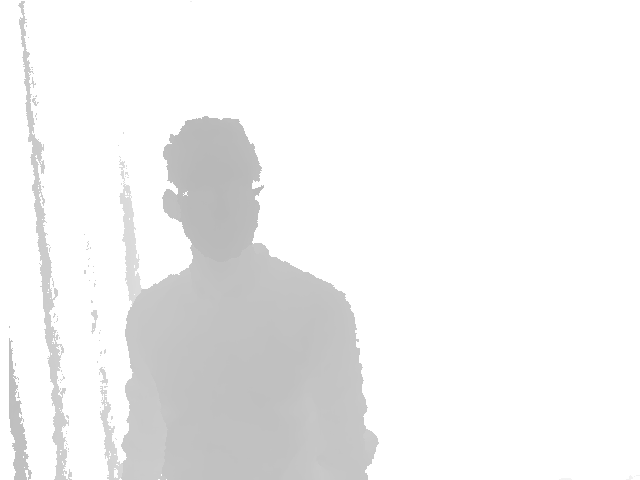head: (161, 116, 265, 262)
person: (117, 116, 381, 480)
